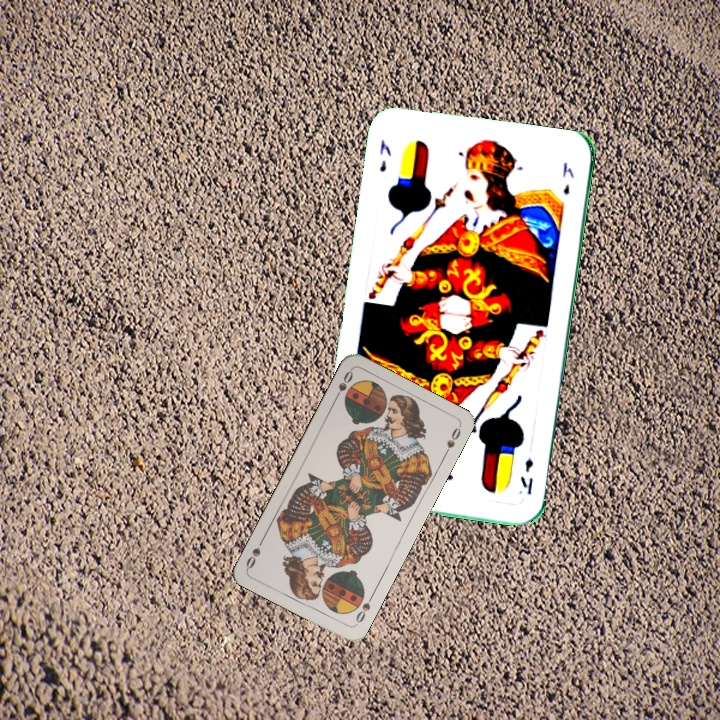EK: (516, 454, 536, 498), (375, 136, 394, 175)
SO: (330, 366, 356, 404), (351, 590, 376, 628)
